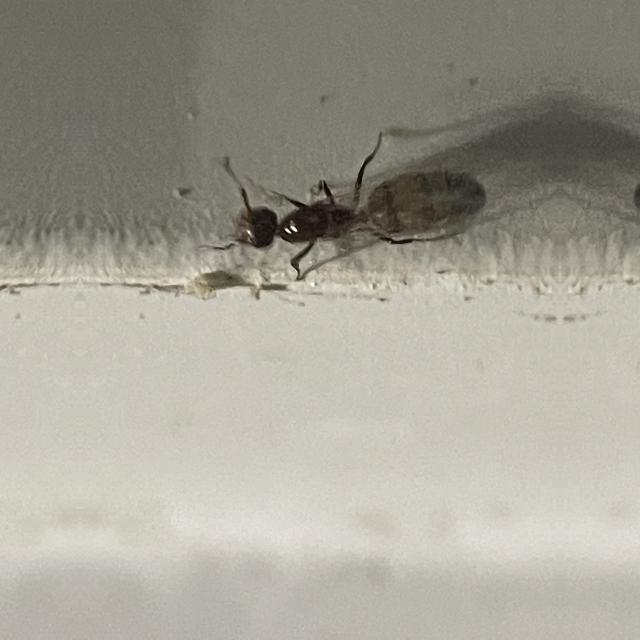Colobopsis: (198, 118, 508, 306)
